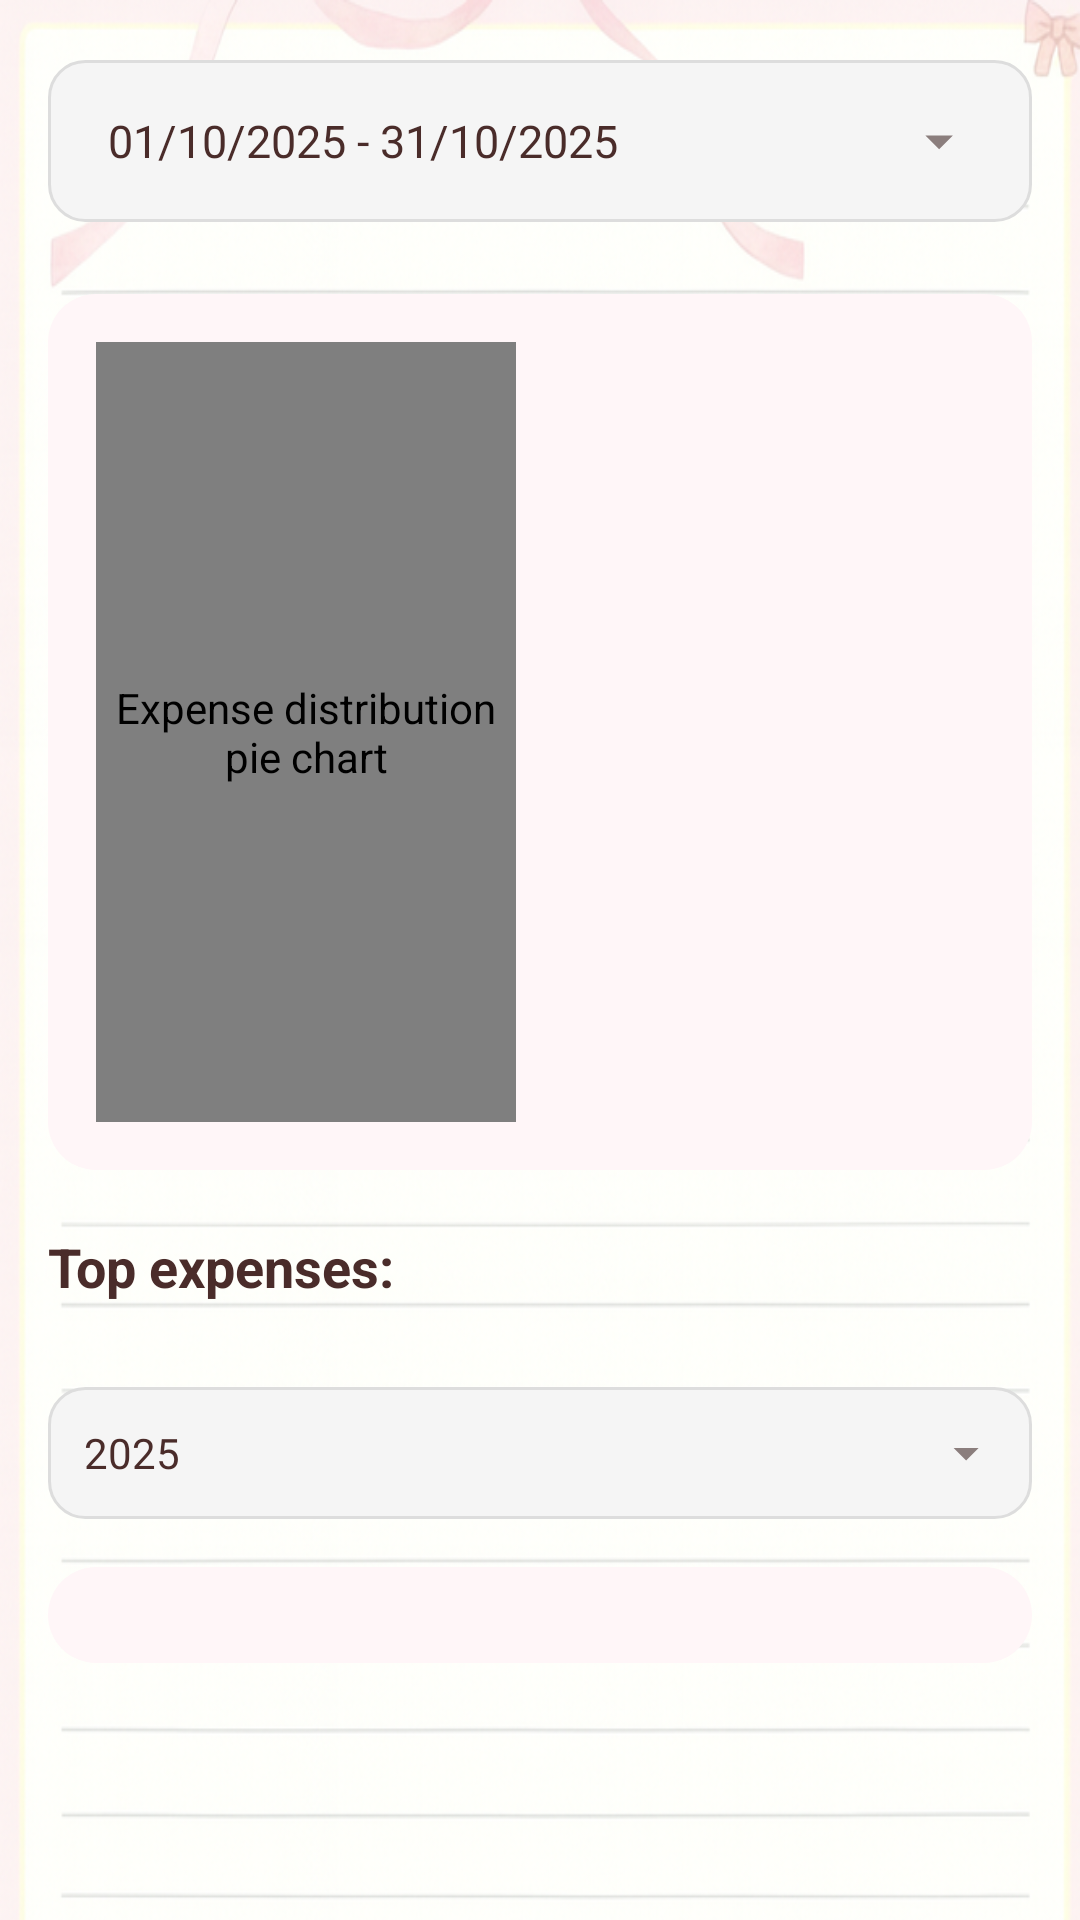

Named icons in this screenshot (1080 x 1920) and their centers, (x=x, y=y):
Chọn khoảng thời gian: (x=939, y=142)
Chọn năm: (x=966, y=1454)
